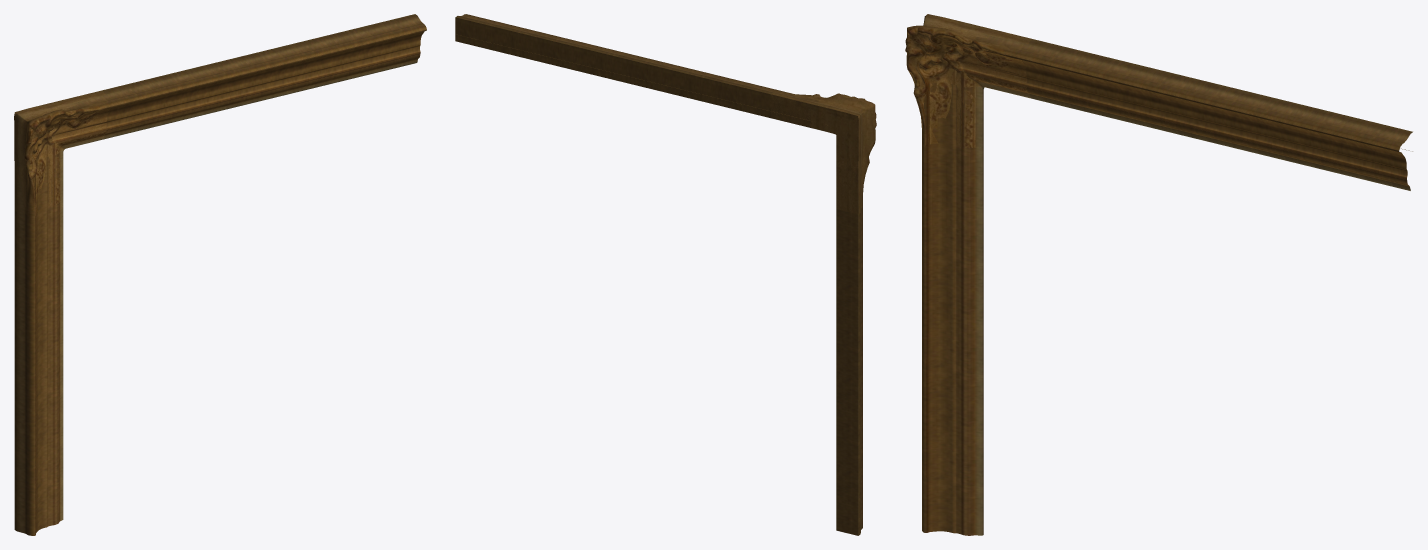
The model's file is frame_kit_ornate.glb.
The picture shows the model from 3 angles, left to right: view 1: azimuth 30°, elevation 25°; view 2: azimuth 150°, elevation 25°; view 3: azimuth 330°, elevation 25°; orthographic projection. The views are drawn at different scales.
Visible parts, largest first — view 1: FrameOrnate_RailV, FrameOrnate_RailH, FrameOrnate_Corner; view 2: FrameOrnate_RailH, FrameOrnate_RailV, FrameOrnate_Corner; view 3: FrameOrnate_RailV, FrameOrnate_RailH, FrameOrnate_Corner.
Part boxes in pixels (<box>): FrameOrnate_RailV: <box>14,150,63,535</box>; FrameOrnate_RailH: <box>67,14,426,141</box>; FrameOrnate_Corner: <box>14,90,110,215</box>; FrameOrnate_RailH: <box>455,14,819,127</box>; FrameOrnate_RailV: <box>836,160,862,535</box>; FrameOrnate_Corner: <box>770,91,876,214</box>; FrameOrnate_RailV: <box>922,83,983,535</box>; FrameOrnate_RailH: <box>970,31,1412,190</box>; FrameOrnate_Corner: <box>905,14,1032,148</box>.
Size of the model in its own units: 1.14 by 1.14 by 0.0877.
Materials: 2 (2 with a texture image).
